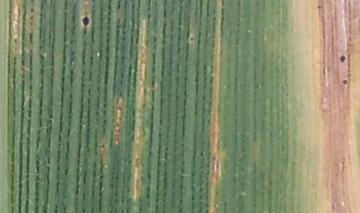tarspot: (81, 15, 91, 28), (338, 54, 347, 64), (340, 79, 349, 86), (316, 2, 323, 11)
